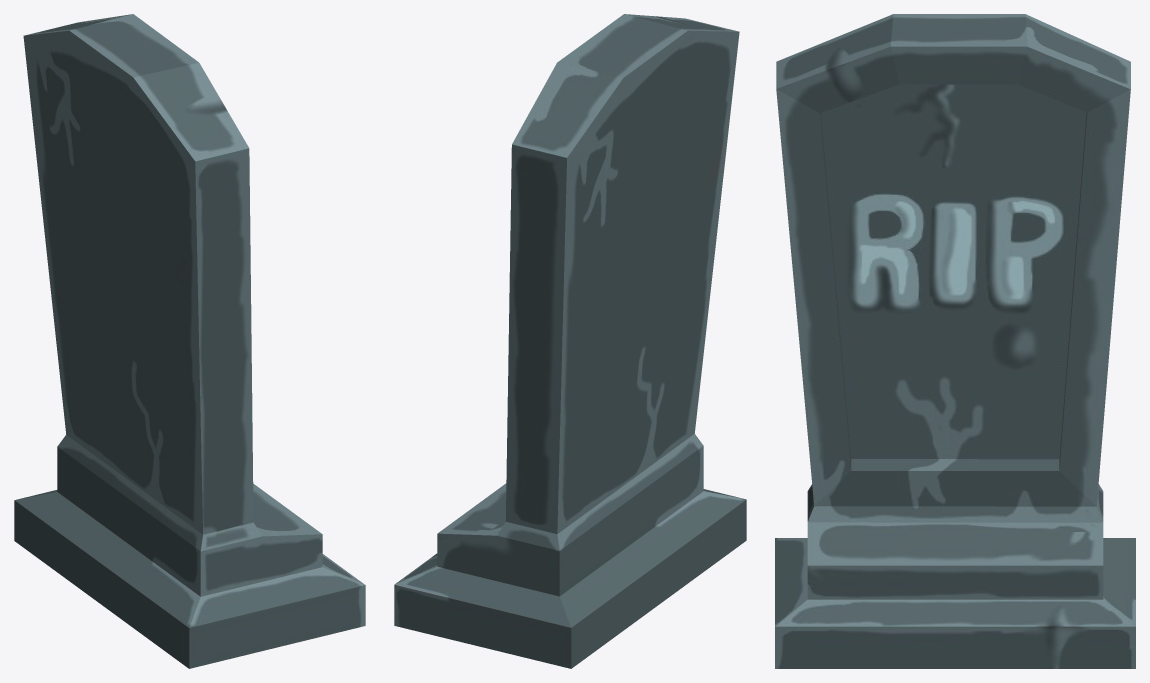
Rendered from tombstone.gltf.
3 renders of one model, left to right at view 1: azimuth 30°, elevation 25°; view 2: azimuth 150°, elevation 25°; view 3: azimuth 270°, elevation 25°, orthographic. The views are drawn at different scales.
Visible parts, largest first — view 1: tombstone; view 2: tombstone; view 3: tombstone.
Part boxes in pixels (x1,y1,x2,y2): tombstone: (14, 14, 365, 668); tombstone: (394, 14, 746, 668); tombstone: (775, 14, 1135, 668).
Size of the model in its own units: 3.41 by 10.14 by 5.85.
Materials: 1 (1 with a texture image).
